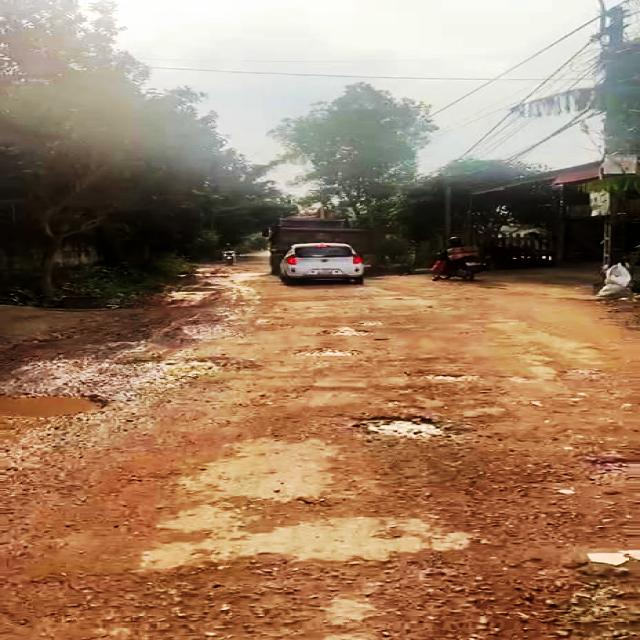pothole: (0, 389, 114, 422), (339, 411, 448, 444), (589, 456, 640, 486)
